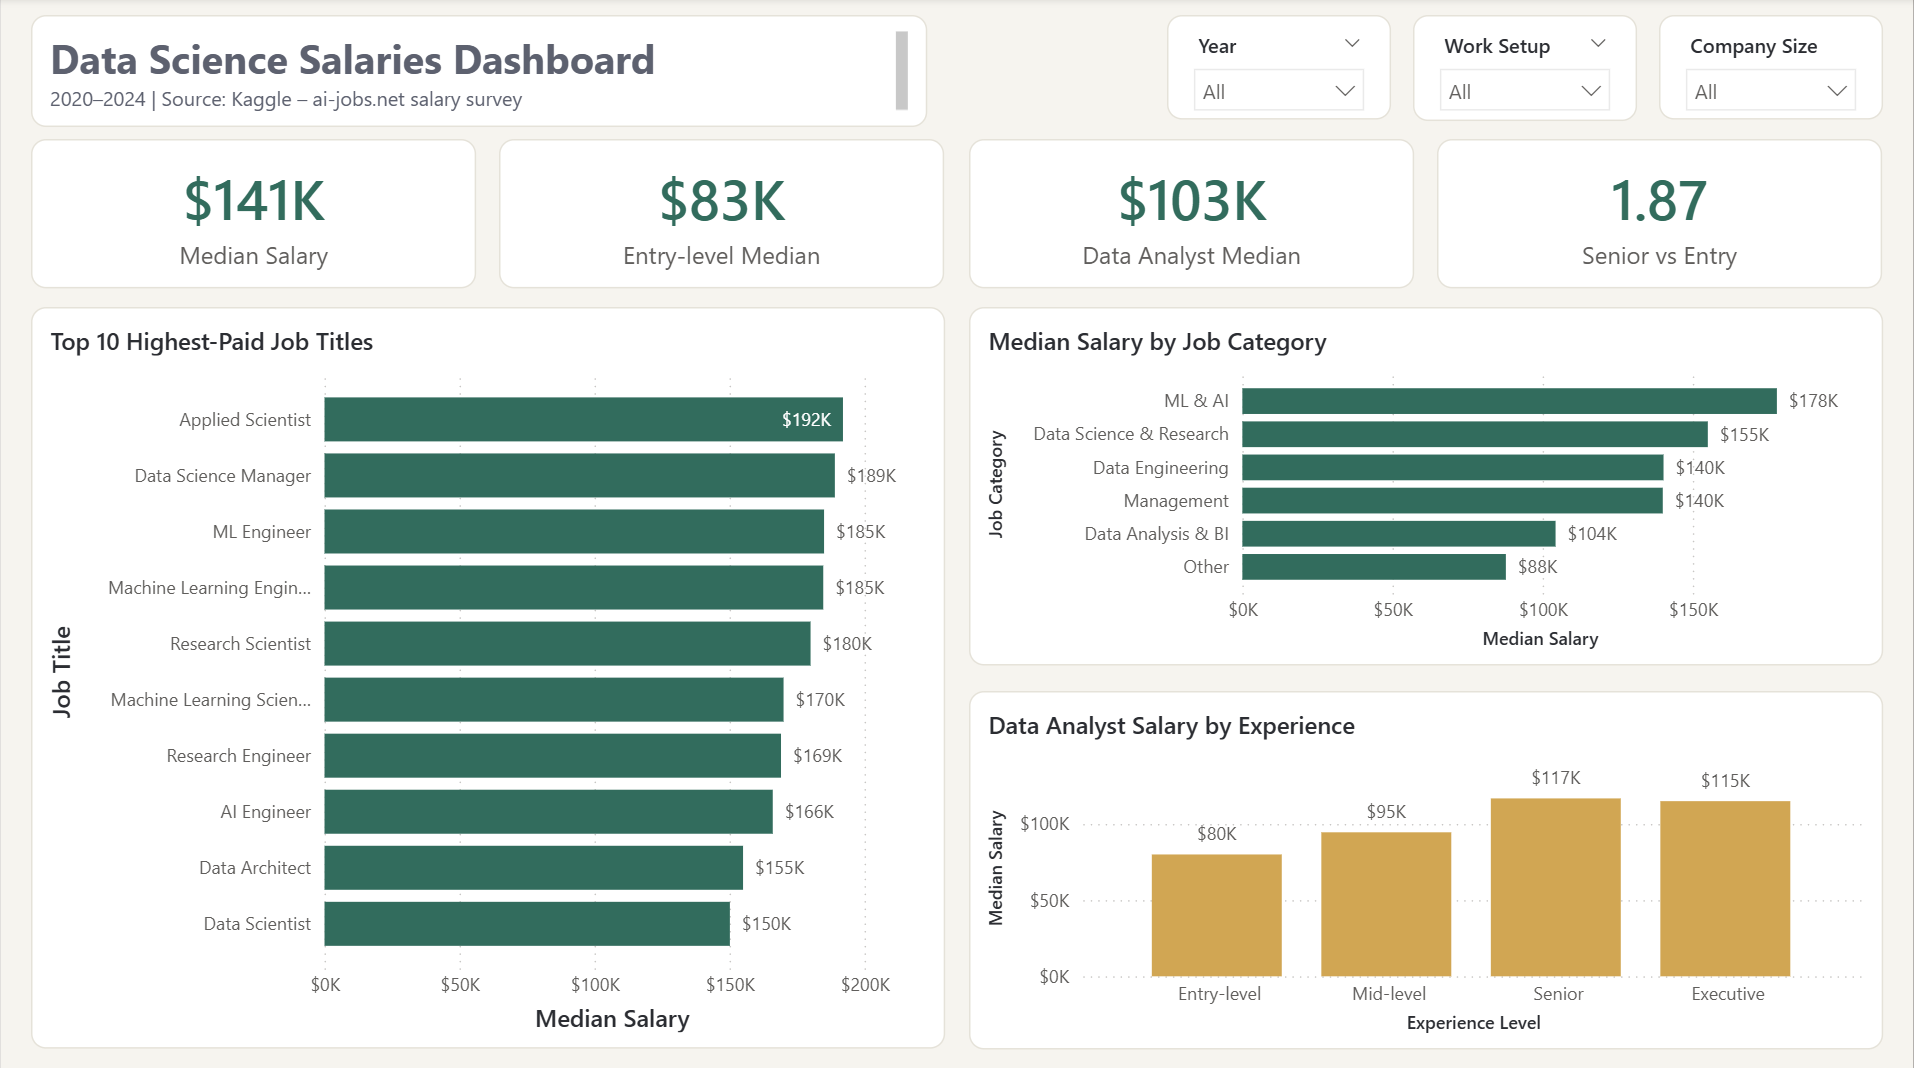

This screenshot's page, from the dashboard's own definition file:
{"tool":"powerbi","page":{"name":"Experience & Roles","canvas":[1280,720],"ordinal":1},"visuals":[{"type":"textbox","box":[20,12,600,75],"z":0},{"type":"slicer","fields":{"Values":["Salaries.Year"]},"box":[780,12,150,70],"z":1000},{"type":"slicer","fields":{"Values":["Salaries.Work Setup"]},"box":[945,12,150,71],"z":2000},{"type":"slicer","fields":{"Values":["Salaries.Company Size"]},"box":[1110,12,150,70],"z":3000},{"type":"card","fields":{"Values":["Salaries.Median Salary"]},"box":[20,95,298,100],"z":4000},{"type":"card","fields":{"Values":["Salaries.Senior vs Entry"]},"box":[962,95,298,100],"z":5000},{"type":"card","fields":{"Values":["Salaries.Data Analyst Median"]},"box":[648,95,298,100],"z":6000},{"type":"card","fields":{"Values":["Salaries.Entry-level Median"]},"box":[334,95,298,100],"z":7000},{"type":"clusteredBarChart","title":"Median Salary by Job Category","fields":{"Category":["Salaries.Job Category"],"Y":["Salaries.Median Salary"]},"box":[648,208,612,240],"z":9000},{"type":"clusteredBarChart","title":"Top 10 Highest-Paid Job Titles","fields":{"Category":["Salaries.Job Title"],"Y":["Salaries.Median Salary (50+)"]},"box":[20.1,207.5,611.9,496.7],"z":10000},{"type":"clusteredColumnChart","title":"Data Analyst Salary by Experience","fields":{"Y":["Salaries.Median Salary"],"Category":["Salaries.Experience Level"]},"box":[648,464,612,240],"z":11000}]}

Visuals, with their boxes in screenshot pixels (x1, y1, x2, y2), scaled from the page's 1280x720 canvas onto the 1914x1068 screenshot:
textbox: [30,18,927,129]
slicer - Salaries.Year: [1166,18,1391,122]
slicer - Salaries.Work Setup: [1413,18,1637,123]
slicer - Salaries.Company Size: [1660,18,1884,122]
card - Salaries.Median Salary: [30,141,476,289]
card - Salaries.Senior vs Entry: [1438,141,1884,289]
card - Salaries.Data Analyst Median: [969,141,1415,289]
card - Salaries.Entry-level Median: [499,141,945,289]
"Median Salary by Job Category" clusteredBarChart: [969,309,1884,665]
"Top 10 Highest-Paid Job Titles" clusteredBarChart: [30,308,945,1045]
"Data Analyst Salary by Experience" clusteredColumnChart: [969,688,1884,1044]
